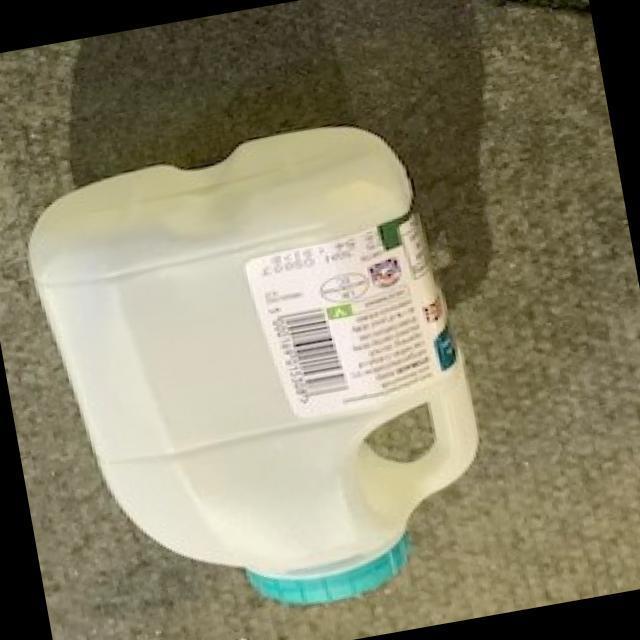HDPE Plastic: (24, 120, 484, 608)
